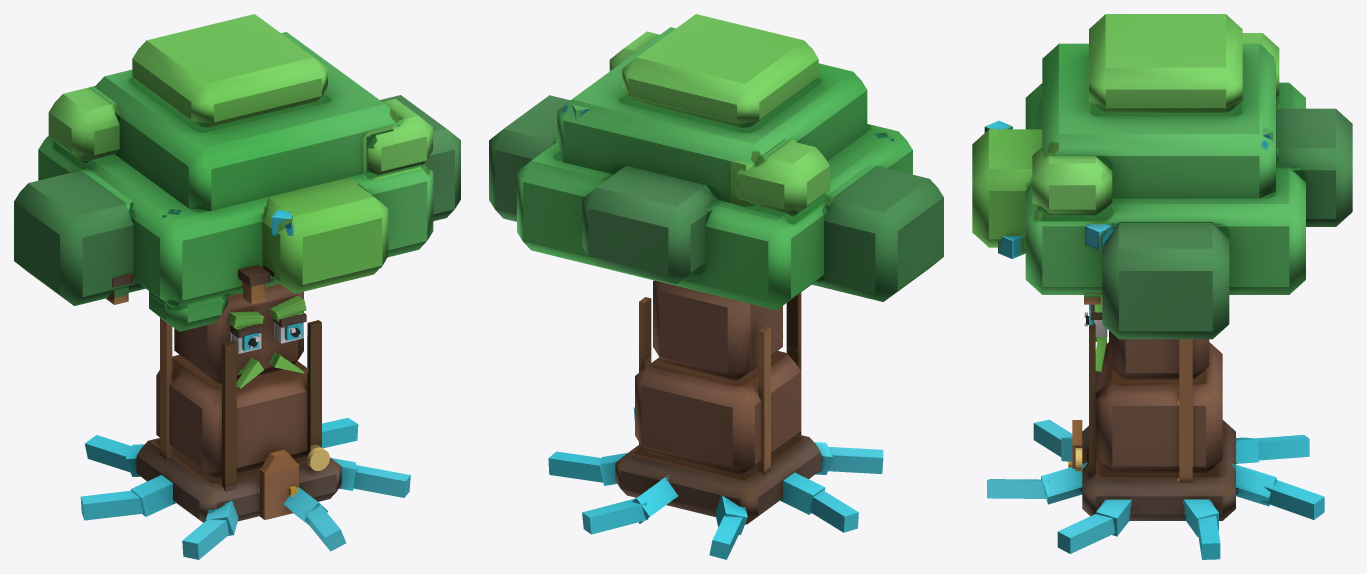
File: ArbreMondeMiniature_Rig.fbx
3 renders of one model, left to right at view 1: azimuth 30°, elevation 25°; view 2: azimuth 150°, elevation 25°; view 3: azimuth 270°, elevation 25°, orthographic.
Visible parts, largest first — view 1: Canopy, Body; view 2: Canopy, Body; view 3: Canopy, Body.
Part boxes in pixels (x1,y1,x2,y2): Canopy: (14, 14, 460, 331); Body: (80, 283, 410, 559); Canopy: (489, 14, 943, 310); Body: (548, 280, 883, 559); Canopy: (972, 14, 1352, 339); Body: (987, 295, 1324, 559).
Bounding box in the file's own units: 5.72 × 6 × 4.59.
Materials: 1 (1 with a texture image).
